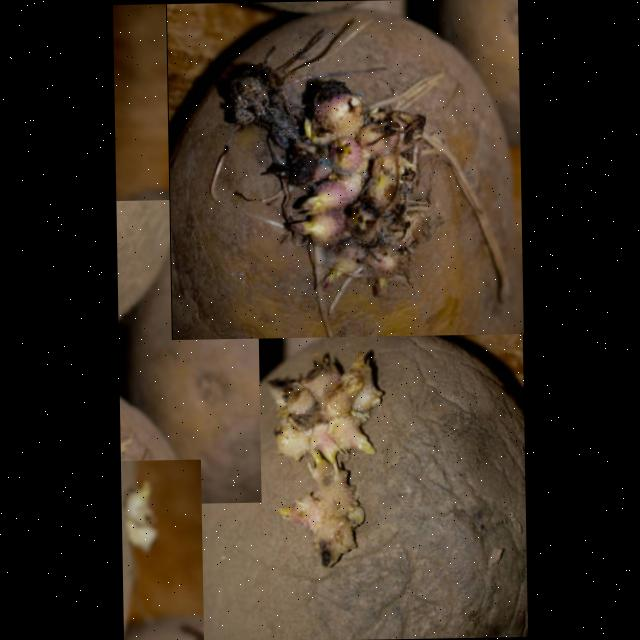Sprouted potato: (165, 0, 523, 338), (172, 321, 528, 640), (116, 197, 261, 503), (120, 458, 203, 640)
